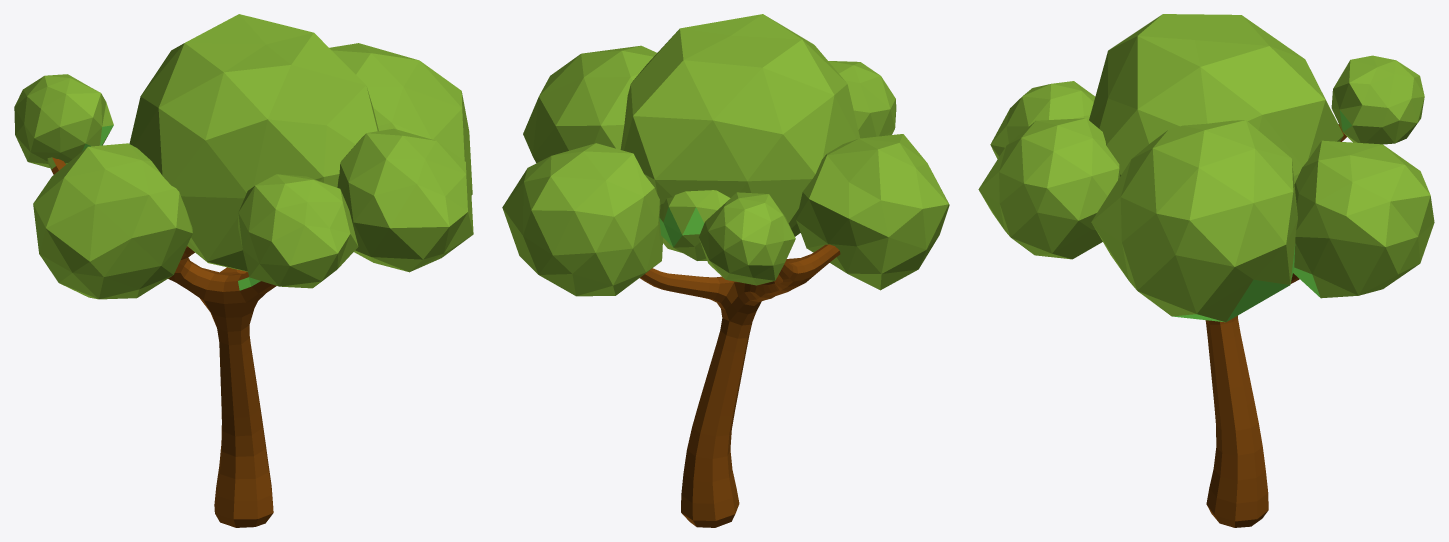
Rendered from Drzewo v4 pomalowane.fbx.
3 renders of one model, left to right at view 1: azimuth 30°, elevation 25°; view 2: azimuth 150°, elevation 25°; view 3: azimuth 270°, elevation 25°, orthographic. The views are drawn at different scales.
Visible parts, largest first — view 1: Icosphere.010; view 2: Icosphere.010; view 3: Icosphere.010.
Boxes of the visible parts, box(x1,y1,x2,y2) form: Icosphere.010: box(14, 14, 473, 527); Icosphere.010: box(502, 14, 949, 527); Icosphere.010: box(978, 14, 1434, 527).
Bounding box in the file's own units: 601 × 676 × 577.
